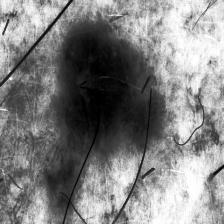Benign Marking or Mole: (58, 32, 162, 153)
